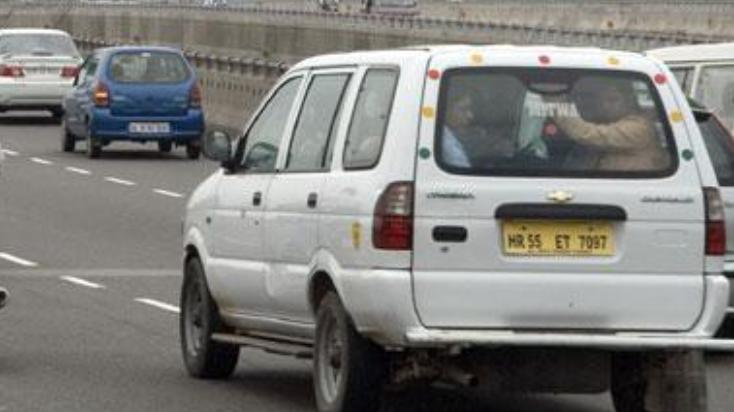car: (163, 33, 734, 411), (62, 45, 207, 160)
